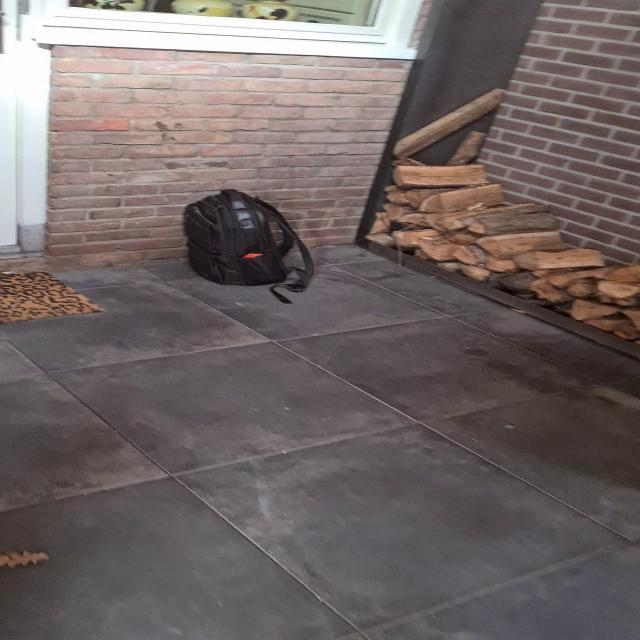backpack: (178, 188, 312, 290)
